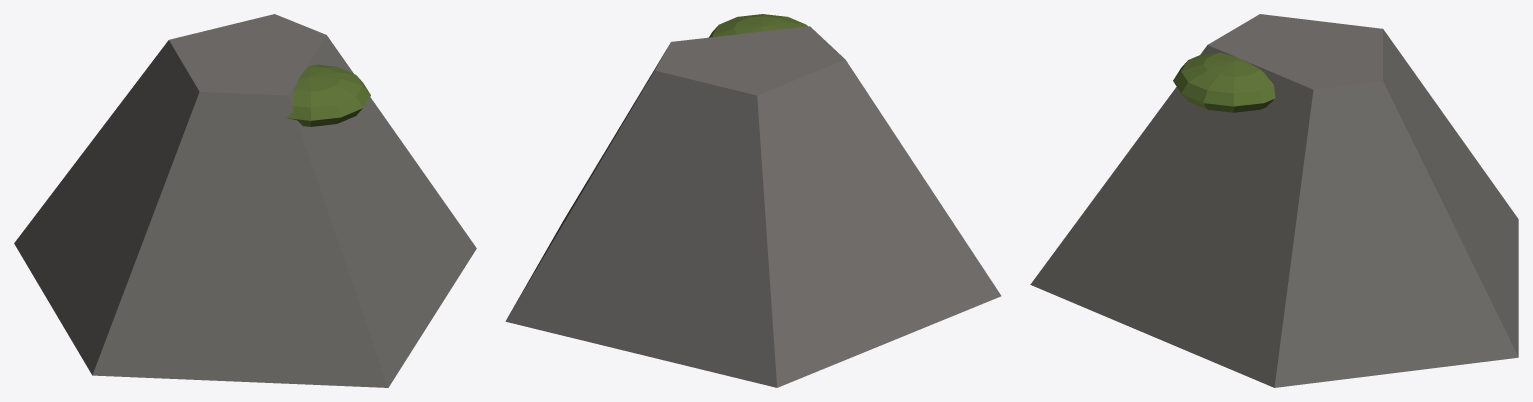
The model's file is stone_smallA.glb.
The picture shows the model from 3 angles, left to right: view 1: azimuth 30°, elevation 25°; view 2: azimuth 150°, elevation 25°; view 3: azimuth 270°, elevation 25°; orthographic projection. The views are drawn at different scales.
Parts seen in each view (by area): view 1: stone_smallA; view 2: stone_smallA; view 3: stone_smallA.
Boxes of the visible parts, left/top/right/bottom form: stone_smallA: left=14, top=14, right=476, bottom=387; stone_smallA: left=505, top=14, right=1001, bottom=387; stone_smallA: left=1030, top=14, right=1518, bottom=387.
Bounding box in the file's own units: 0.3608 × 0.1912 × 0.3608.
